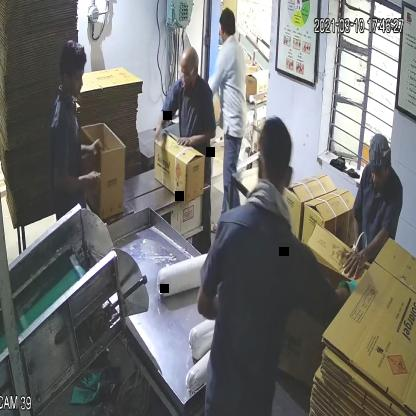no_glove: (336, 227, 400, 278), (54, 162, 108, 203), (175, 115, 224, 160), (74, 127, 108, 164), (145, 111, 175, 151)
